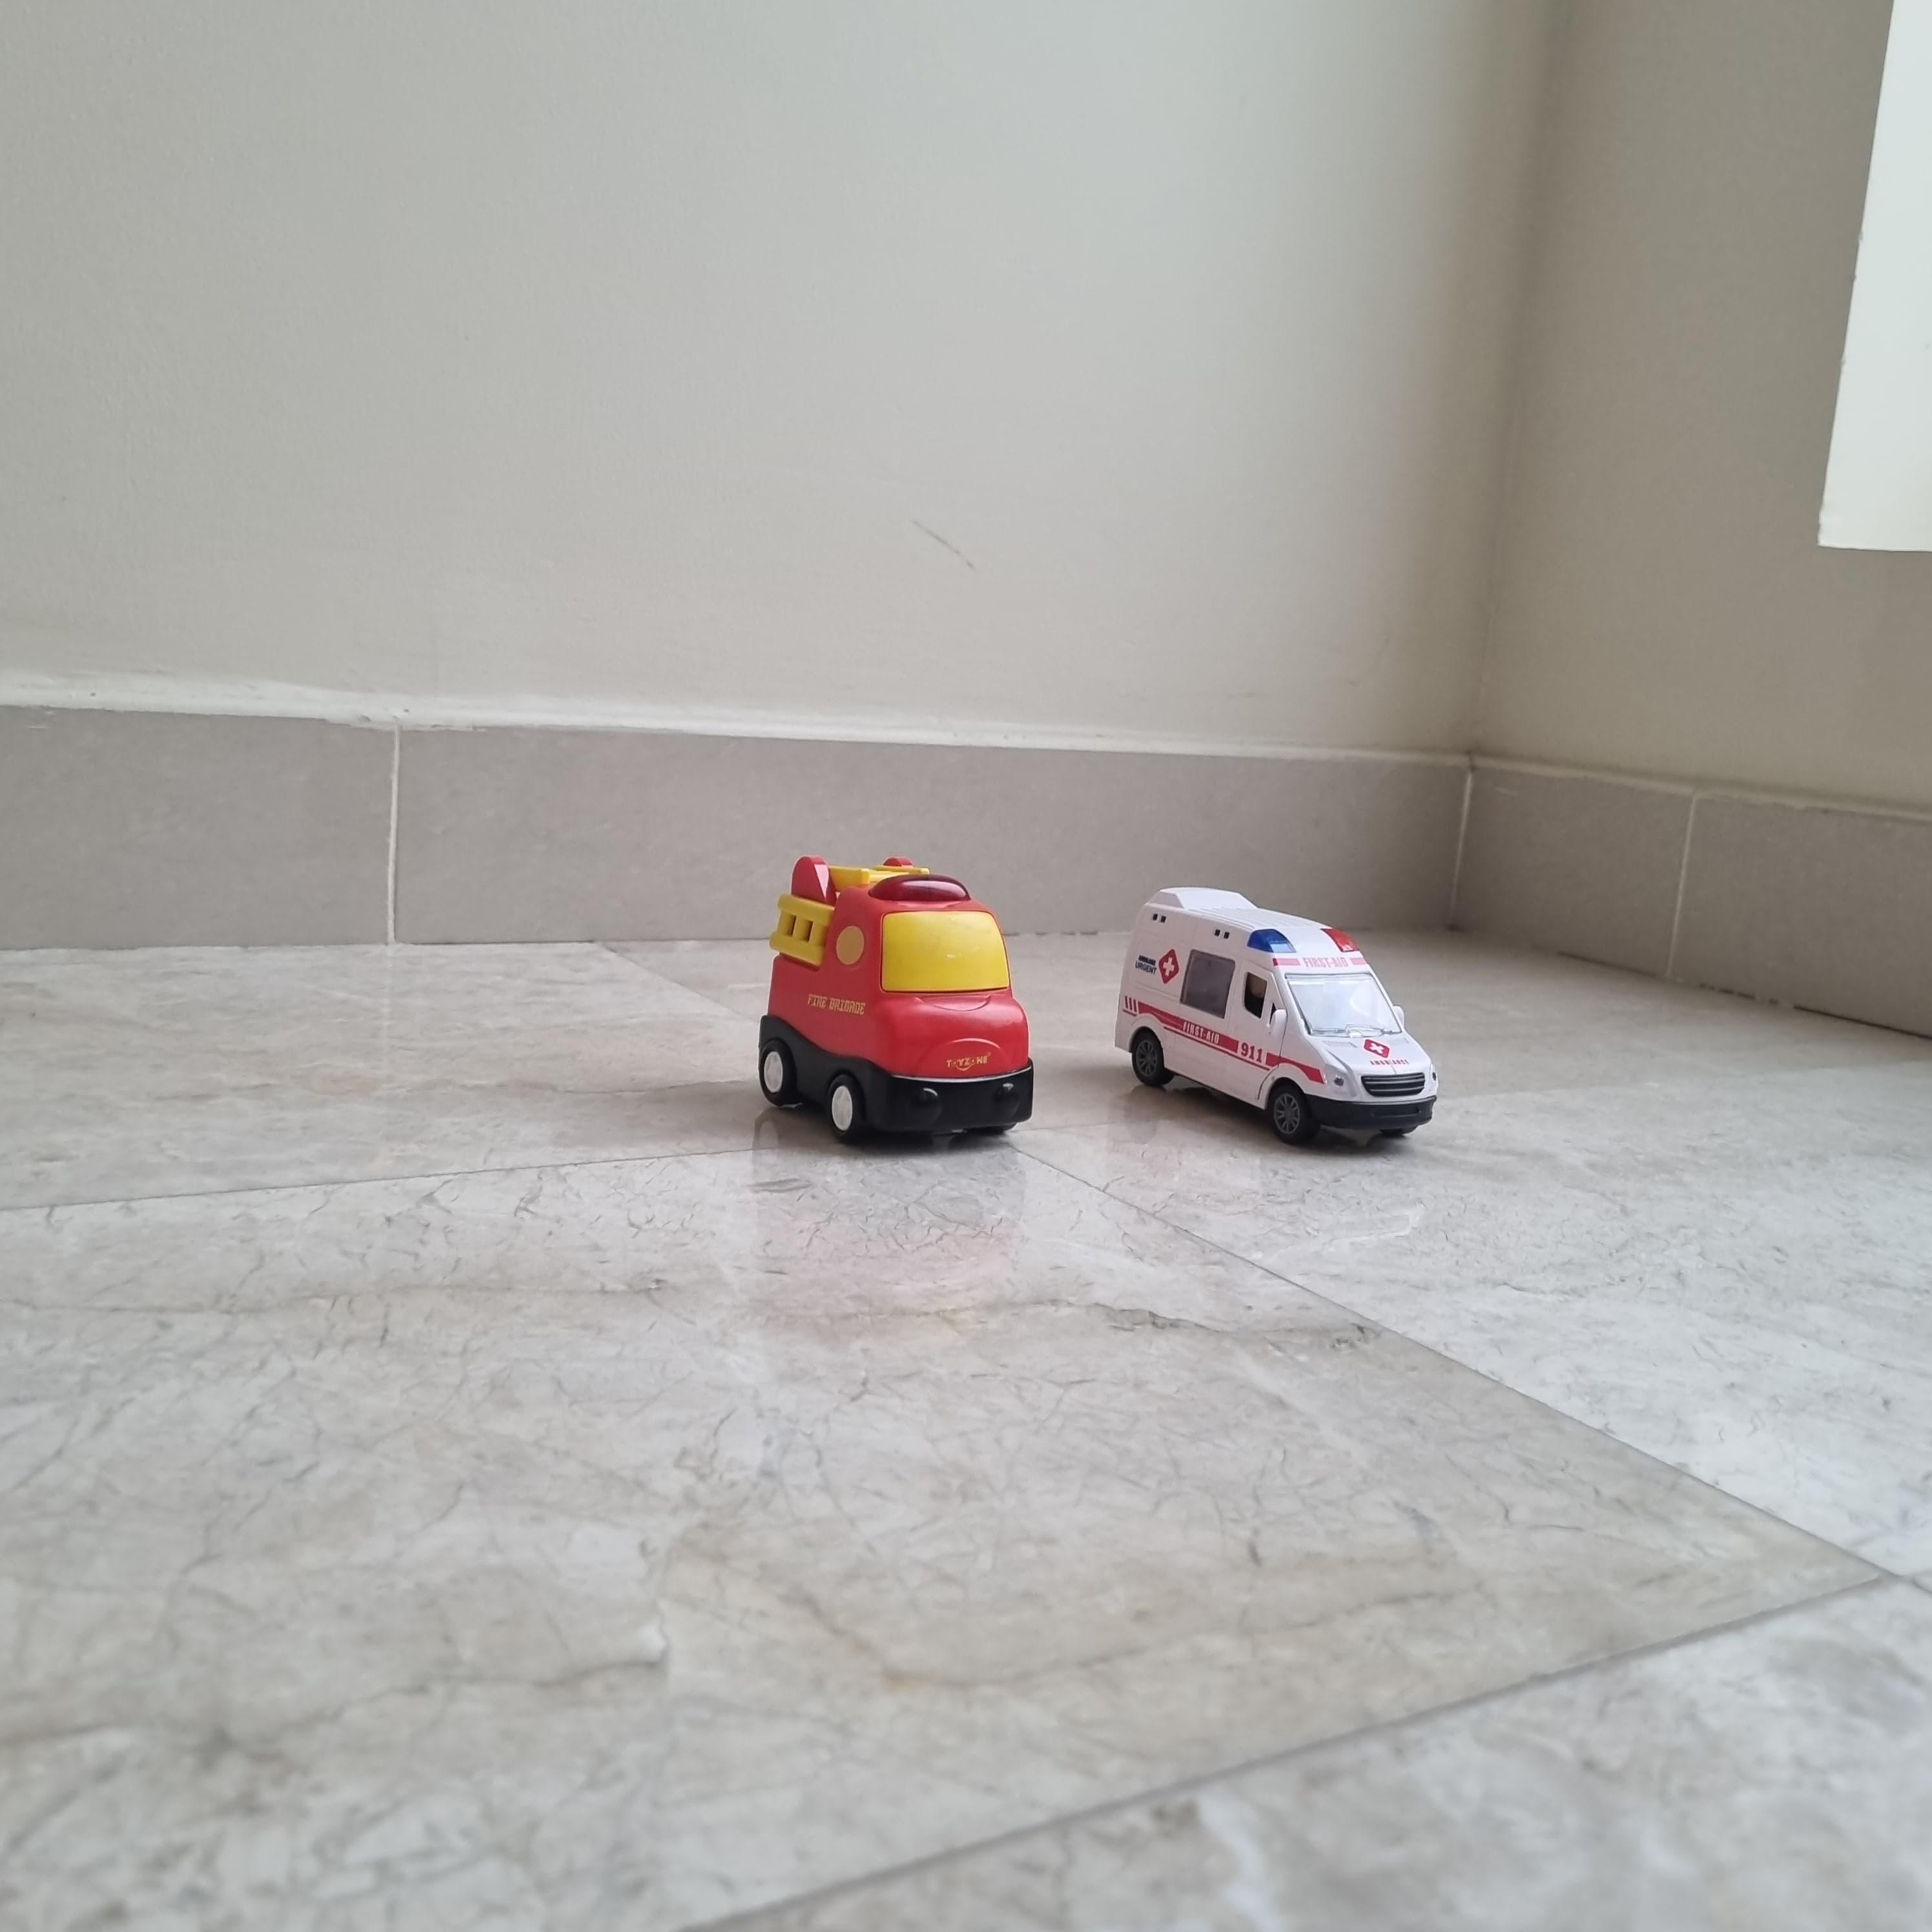ambulance_off: (1113, 886, 1438, 1143)
firetruck_off: (759, 855, 1035, 1146)
